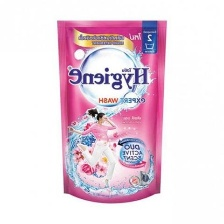book: (54, 16, 170, 205)
